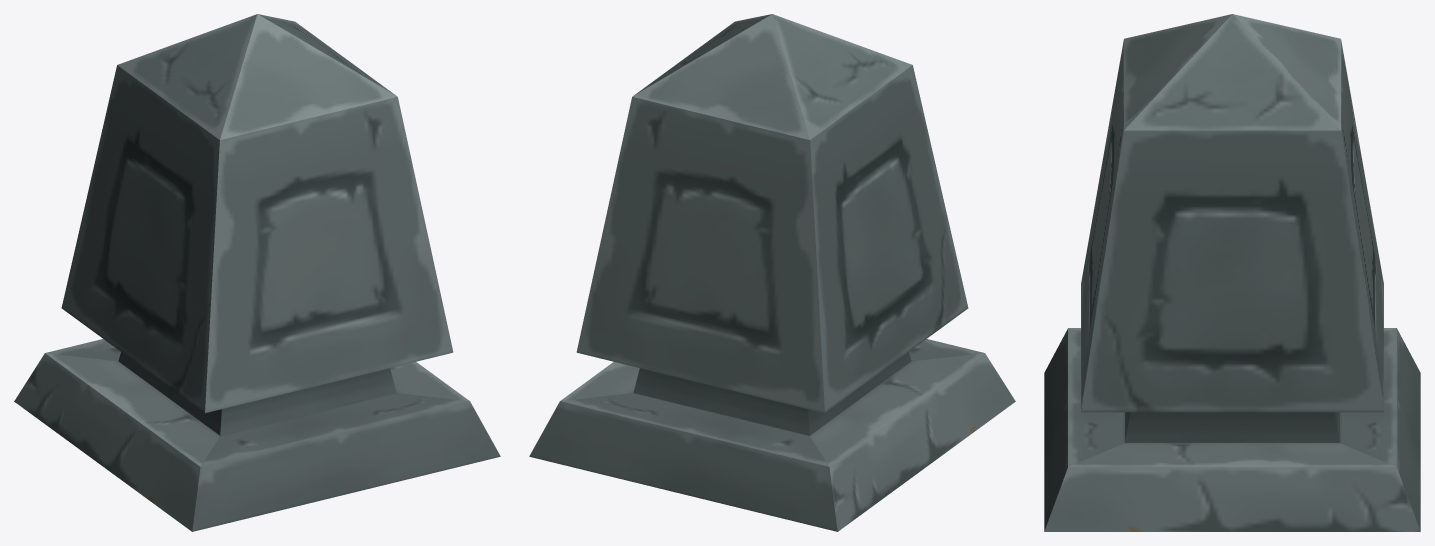
The model's file is Dg_01_StoneObjects_15.FBX.
The picture shows the model from 3 angles, left to right: view 1: azimuth 30°, elevation 25°; view 2: azimuth 150°, elevation 25°; view 3: azimuth 270°, elevation 25°; orthographic projection. The views are drawn at different scales.
Visible parts, largest first — view 1: Dg_01_StoneObjects_15; view 2: Dg_01_StoneObjects_15; view 3: Dg_01_StoneObjects_15.
Part boxes in pixels (<box>): Dg_01_StoneObjects_15: <box>14,14,500,531</box>; Dg_01_StoneObjects_15: <box>529,14,1015,531</box>; Dg_01_StoneObjects_15: <box>1044,14,1420,531</box>.
Size of the model in its own units: 0.9657 by 1.24 by 0.9657.
